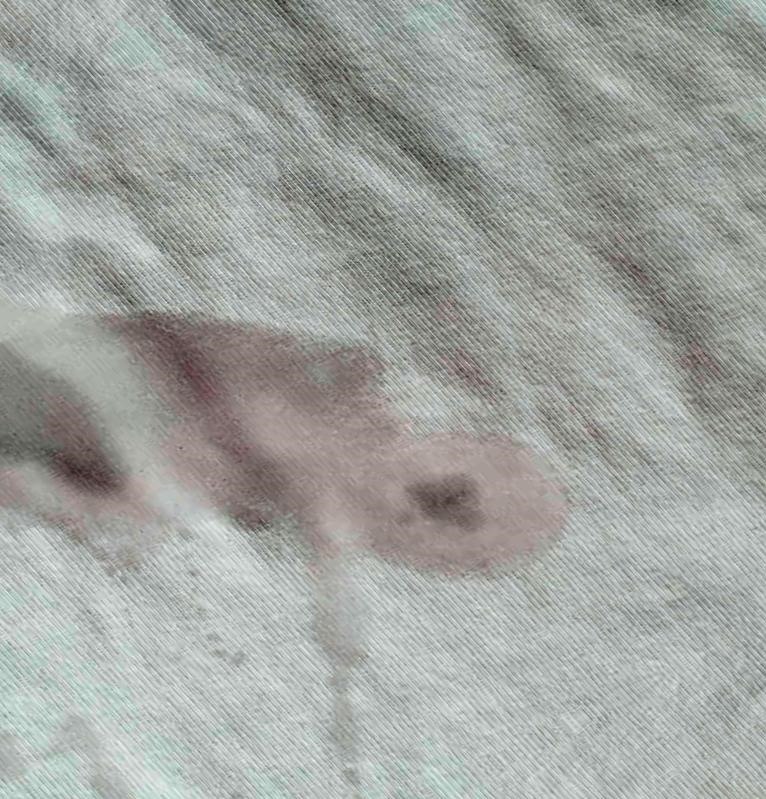stain: (5, 295, 592, 598)
